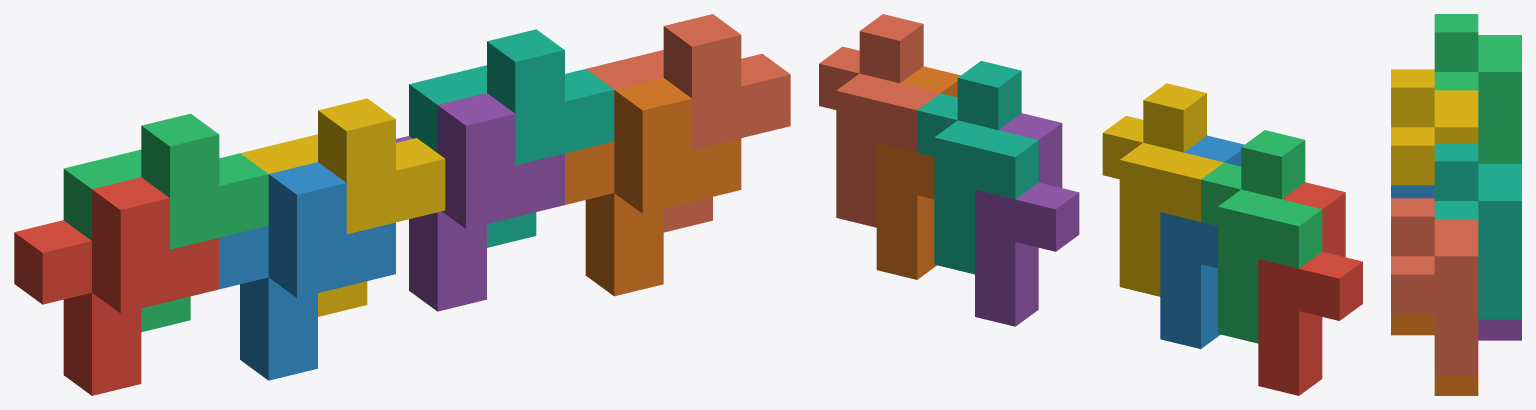
Rendered from tiling.obj.
3 views of the same model, side by side, from view 1: azimuth 30°, elevation 25°; view 2: azimuth 150°, elevation 25°; view 3: azimuth 270°, elevation 25° (orthographic). The views are drawn at different scales.
Parts seen in each view (by area): view 1: copy_1_domain_1, copy_1_domain_6, copy_1_domain_2, copy_1_domain_5, copy_1_domain_3, copy_1_domain_7, copy_1_domain_4, copy_1_domain_8; view 2: copy_1_domain_3, copy_1_domain_7, copy_1_domain_4, copy_1_domain_8, copy_1_domain_1, copy_1_domain_5, copy_1_domain_6, copy_1_domain_2; view 3: copy_1_domain_8, copy_1_domain_7, copy_1_domain_3, copy_1_domain_4, copy_1_domain_6, copy_1_domain_5, copy_1_domain_2.
Part boxes in pixels (left/top/right/bottom): copy_1_domain_1: left=14, top=177, right=219, bottom=395; copy_1_domain_6: left=565, top=77, right=741, bottom=296; copy_1_domain_2: left=219, top=162, right=395, bottom=380; copy_1_domain_5: left=396, top=93, right=564, bottom=311; copy_1_domain_3: left=63, top=113, right=268, bottom=332; copy_1_domain_7: left=409, top=29, right=614, bottom=247; copy_1_domain_4: left=240, top=98, right=445, bottom=316; copy_1_domain_8: left=586, top=14, right=790, bottom=232; copy_1_domain_3: left=1201, top=130, right=1322, bottom=343; copy_1_domain_7: left=917, top=61, right=1038, bottom=274; copy_1_domain_4: left=1102, top=83, right=1223, bottom=296; copy_1_domain_8: left=819, top=14, right=939, bottom=227; copy_1_domain_1: left=1258, top=182, right=1362, bottom=395; copy_1_domain_5: left=975, top=113, right=1079, bottom=326; copy_1_domain_6: left=876, top=66, right=960, bottom=279; copy_1_domain_2: left=1160, top=135, right=1243, bottom=348; copy_1_domain_8: left=1391, top=198, right=1478, bottom=374; copy_1_domain_7: left=1434, top=143, right=1521, bottom=319; copy_1_domain_3: left=1434, top=14, right=1521, bottom=163; copy_1_domain_4: left=1391, top=69, right=1478, bottom=185; copy_1_domain_6: left=1391, top=314, right=1478, bottom=395; copy_1_domain_5: left=1478, top=319, right=1521, bottom=340; copy_1_domain_2: left=1391, top=185, right=1434, bottom=198.
Size of the model in its own units: 14 by 5 by 3.
